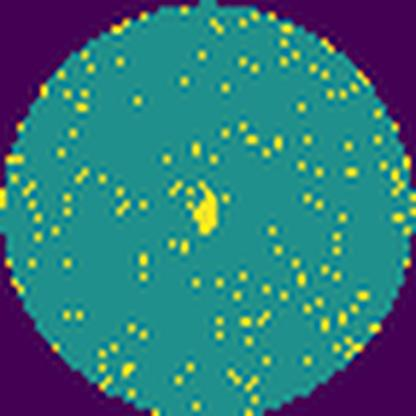Center: (190, 178, 221, 236)
